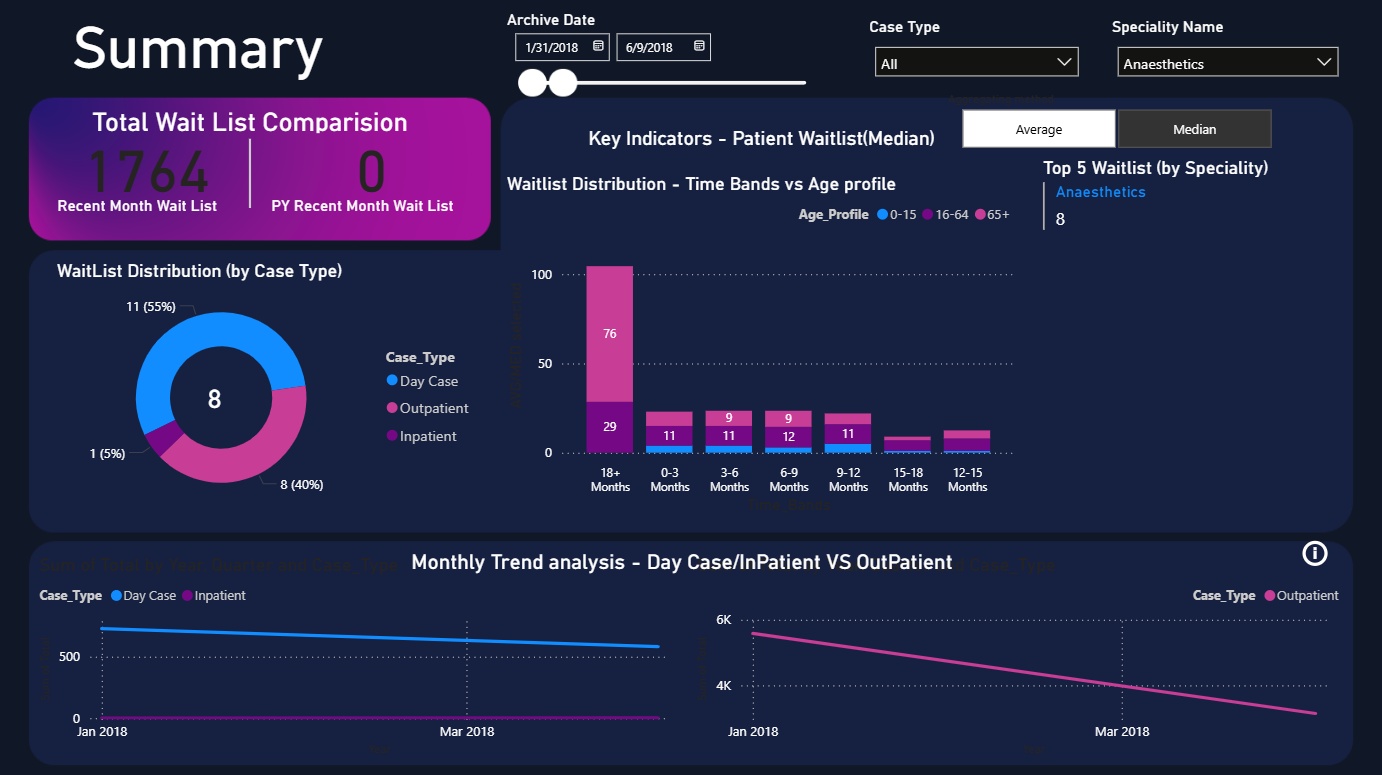

What the dashboard file says about the page in this screenshot:
{"tool":"powerbi","page":{"name":"Summary","canvas":[1280,720],"ordinal":0},"visuals":[{"type":"card","fields":{"Values":["Methods.Measure 8"]},"box":[641.8,543.3,607.5,159.7],"z":0},{"type":"card","fields":{"Values":["Methods.Measure 7"]},"box":[35.8,526.9,600,159.7],"z":1000},{"type":"card","title":"Previous Year","fields":{"Values":["Patient_Data.Previous year Recent month total sum"]},"box":[256,112,176,80],"z":2000},{"type":"card","title":"Current year","fields":{"Values":["Patient_Data.Recent month total sum"]},"box":[48,112,176,80],"z":3000},{"type":"slicer","fields":{"Values":["Table.Aggregating method"]},"box":[864,80,336,64],"z":4000},{"type":"donutChart","title":"WaitList Distribution (by Case Type)","fields":{"Y":["Patient_Data.AVG/MED selected"],"Category":["Patient_Data.Case_Type"]},"box":[48,240,400,240],"z":5000},{"type":"columnChart","title":"Waitlist Distribution - Time Bands vs Age profile","fields":{"Category":["Patient_Data.Time_Bands"],"Y":["Patient_Data.AVG/MED selected"],"Series":["Patient_Data.Age_Profile"]},"box":[464,160,480,320],"z":6000},{"type":"multiRowCard","title":"Top 5 Waitlist (by Speciality)","fields":{"Values":["Patient_Data.AVG/MED selected","Patient_Data.Speciality_Name"]},"box":[960,144,304,352],"z":7000},{"type":"lineChart","fields":{"Y":["Sum(Patient_Data.Total)"],"Series":["Patient_Data.Case_Type"],"Category":["Patient_Data.Archive_Date.Variation.Date Hierarchy.Year","Patient_Data.Archive_Date.Variation.Date Hierarchy.Quarter","Patient_Data.Archive_Date.Variation.Date Hierarchy.Month","Patient_Data.Archive_Date.Variation.Date Hierarchy.Day"]},"box":[32,512,608,192],"z":8000},{"type":"lineChart","fields":{"Series":["Patient_Data.Case_Type"],"Y":["Sum(Patient_Data.Total)"],"Category":["Patient_Data.Archive_Date.Variation.Date Hierarchy.Year","Patient_Data.Archive_Date.Variation.Date Hierarchy.Quarter","Patient_Data.Archive_Date.Variation.Date Hierarchy.Month","Patient_Data.Archive_Date.Variation.Date Hierarchy.Day"]},"box":[640,512,608,192],"z":9000},{"type":"slicer","title":"Case Type","fields":{"Values":["Patient_Data.Case_Type"]},"box":[800,16,208,80],"z":10000},{"type":"slicer","title":"Speciality Name","fields":{"Values":["Patient_Data.Speciality_Name"]},"box":[1024,16,224,64],"z":11000},{"type":"actionButton","box":[1200,480,32,64],"z":12000},{"type":"slicer","title":"Archive Date","fields":{"Values":["Patient_Data.Archive_Date"]},"box":[464.2,9,303,95.5],"z":13000},{"type":"card","fields":{"Values":["Patient_Data.Dynamic header"]},"box":[513.4,97,383.6,62.7],"z":14000},{"type":"card","fields":{"Values":["Patient_Data.AVG/MED selected"]},"box":[160,336,80,64],"z":15000},{"type":"shape","box":[208,128,48,64],"z":16000},{"type":"card","fields":{"Values":["Methods.Measure"]},"box":[32,16,304,64],"z":17000},{"type":"card","fields":{"Values":["Methods.Measure 3"]},"box":[32,96,400,32],"z":18000},{"type":"card","fields":{"Values":["Methods.Measure 4"]},"box":[0,176,256,32],"z":19000},{"type":"card","fields":{"Values":["Methods.Measure 5"]},"box":[240,176,192,32],"z":20000},{"type":"card","fields":{"Values":["Methods.Measure 6"]},"box":[64,496,1136,48],"z":21000}]}

Visuals, with their boxes in screenshot pixels (x1, y1, x2, y2), scaled from the page's 1280x720 canvas onto the 1382x775 screenshot:
card - Methods.Measure 8: x1=693 y1=585 x2=1349 y2=757
card - Methods.Measure 7: x1=39 y1=567 x2=686 y2=739
"Previous Year" card: x1=276 y1=121 x2=466 y2=207
"Current year" card: x1=52 y1=121 x2=242 y2=207
slicer - Table.Aggregating method: x1=933 y1=86 x2=1296 y2=155
"WaitList Distribution (by Case Type)" donutChart: x1=52 y1=258 x2=484 y2=517
"Waitlist Distribution - Time Bands vs Age profile" columnChart: x1=501 y1=172 x2=1019 y2=517
"Top 5 Waitlist (by Speciality)" multiRowCard: x1=1036 y1=155 x2=1365 y2=534
lineChart - Sum(Patient_Data.Total) x Patient_Data.Case_Type: x1=35 y1=551 x2=691 y2=758
lineChart - Patient_Data.Case_Type x Sum(Patient_Data.Total): x1=691 y1=551 x2=1347 y2=758
"Case Type" slicer: x1=864 y1=17 x2=1088 y2=103
"Speciality Name" slicer: x1=1106 y1=17 x2=1347 y2=86
actionButton: x1=1296 y1=517 x2=1330 y2=586
"Archive Date" slicer: x1=501 y1=10 x2=828 y2=112
card - Patient_Data.Dynamic header: x1=554 y1=104 x2=968 y2=172
card - Patient_Data.AVG/MED selected: x1=173 y1=362 x2=259 y2=431
shape: x1=225 y1=138 x2=276 y2=207
card - Methods.Measure: x1=35 y1=17 x2=363 y2=86
card - Methods.Measure 3: x1=35 y1=103 x2=466 y2=138
card - Methods.Measure 4: x1=0 y1=189 x2=276 y2=224
card - Methods.Measure 5: x1=259 y1=189 x2=466 y2=224
card - Methods.Measure 6: x1=69 y1=534 x2=1296 y2=586
